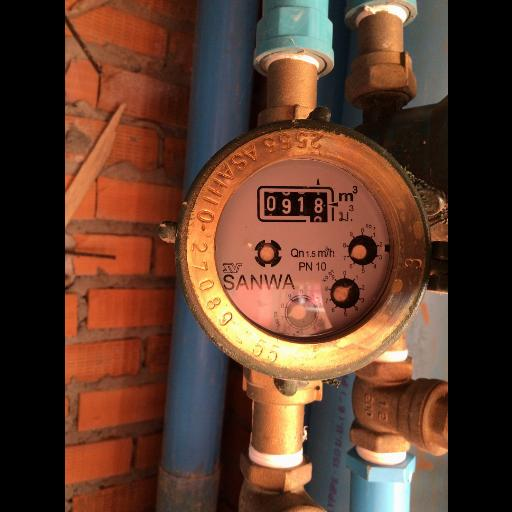0: (263, 192, 278, 217)
1: (293, 192, 309, 217)
8: (309, 191, 328, 223)
9: (277, 192, 294, 217)
border_water_meter_number: (255, 185, 334, 226)
